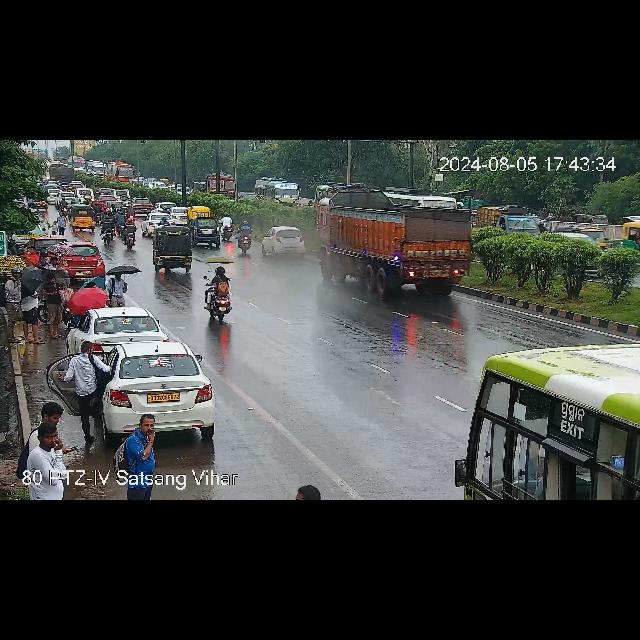bus: (458, 342, 640, 501), (249, 178, 303, 208), (106, 161, 132, 183), (66, 156, 88, 170), (88, 160, 106, 176), (314, 185, 330, 197)
car: (78, 342, 218, 441), (76, 309, 166, 347), (154, 228, 200, 272), (61, 242, 106, 276), (260, 224, 310, 253), (571, 227, 609, 253), (187, 216, 221, 244), (142, 214, 178, 236), (70, 203, 96, 230), (623, 222, 640, 246), (185, 208, 213, 220), (130, 198, 156, 210), (54, 192, 72, 208), (76, 188, 94, 202), (114, 188, 128, 202), (44, 188, 60, 200), (157, 202, 179, 210), (100, 187, 114, 197), (69, 180, 85, 188)
motorcycle: (202, 267, 234, 321), (233, 223, 255, 254), (99, 213, 118, 244), (121, 219, 139, 247), (218, 215, 236, 241), (61, 198, 69, 215), (94, 200, 100, 222), (95, 188, 99, 200), (72, 196, 80, 200)
person: (60, 344, 94, 420), (118, 414, 160, 470), (32, 406, 68, 470), (25, 433, 77, 475), (22, 274, 46, 344), (44, 275, 68, 341), (5, 266, 23, 342), (60, 279, 78, 323), (105, 272, 127, 304), (25, 245, 41, 265), (40, 214, 50, 232), (58, 211, 66, 231), (48, 256, 58, 268), (51, 220, 59, 234)
truck: (316, 190, 489, 282), (30, 470, 220, 500), (478, 204, 536, 240), (196, 175, 244, 199), (49, 168, 75, 185)
